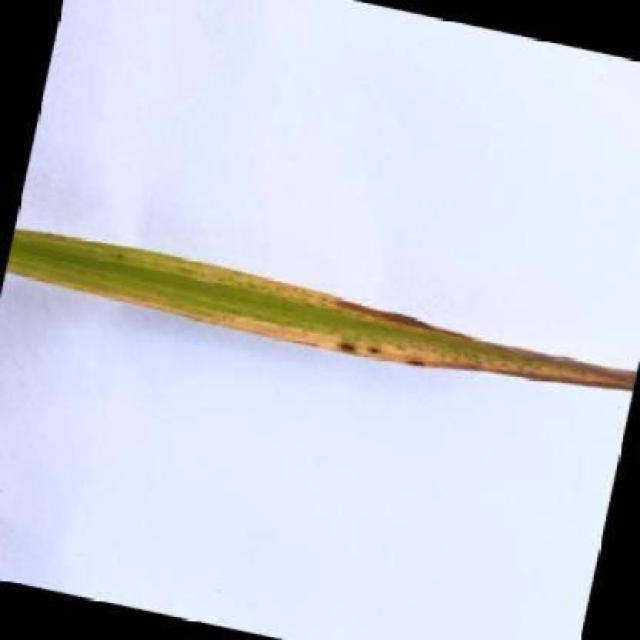Rice False Smut: (2, 226, 640, 414)
